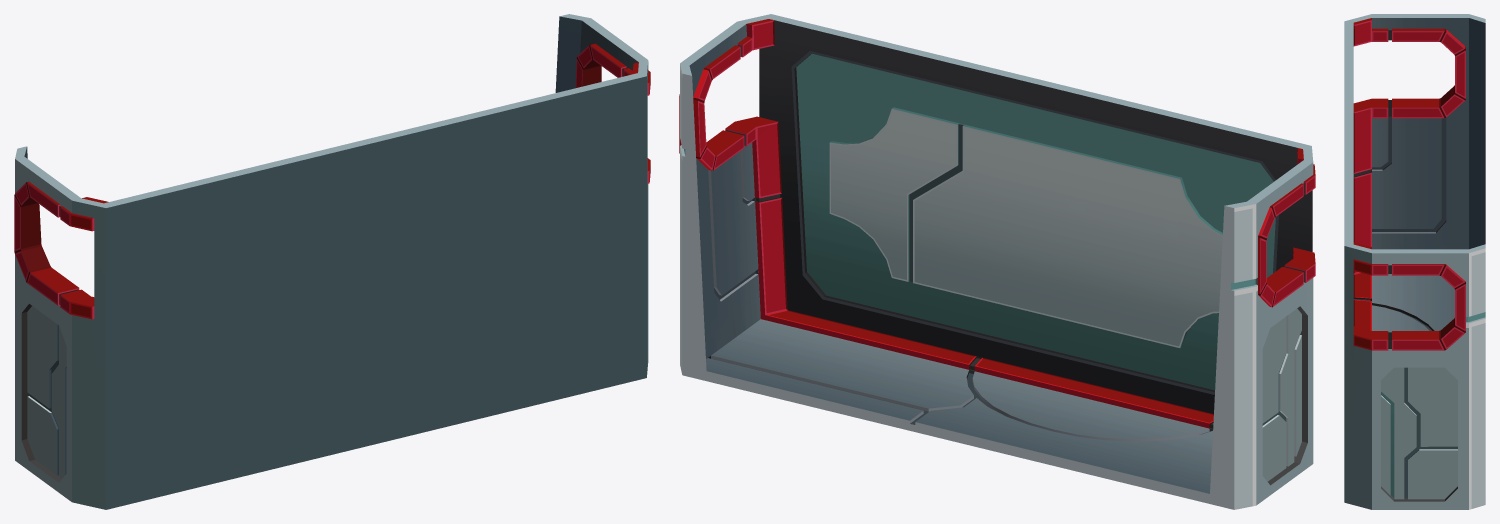
The model's file is SpaceBunkerMedium.fbx.
The picture shows the model from 3 angles, left to right: view 1: azimuth 30°, elevation 25°; view 2: azimuth 150°, elevation 25°; view 3: azimuth 270°, elevation 25°; orthographic projection. The views are drawn at different scales.
Visible parts, largest first — view 1: SpaceBunkerMedium; view 2: SpaceBunkerMedium; view 3: SpaceBunkerMedium.
Part boxes in pixels (x1=…): SpaceBunkerMedium: x1=14, y1=14, x2=650, y2=509; SpaceBunkerMedium: x1=679, y1=14, x2=1315, y2=509; SpaceBunkerMedium: x1=1344, y1=14, x2=1485, y2=509.
Bounding box in the file's own units: 1209 × 600 × 300.
